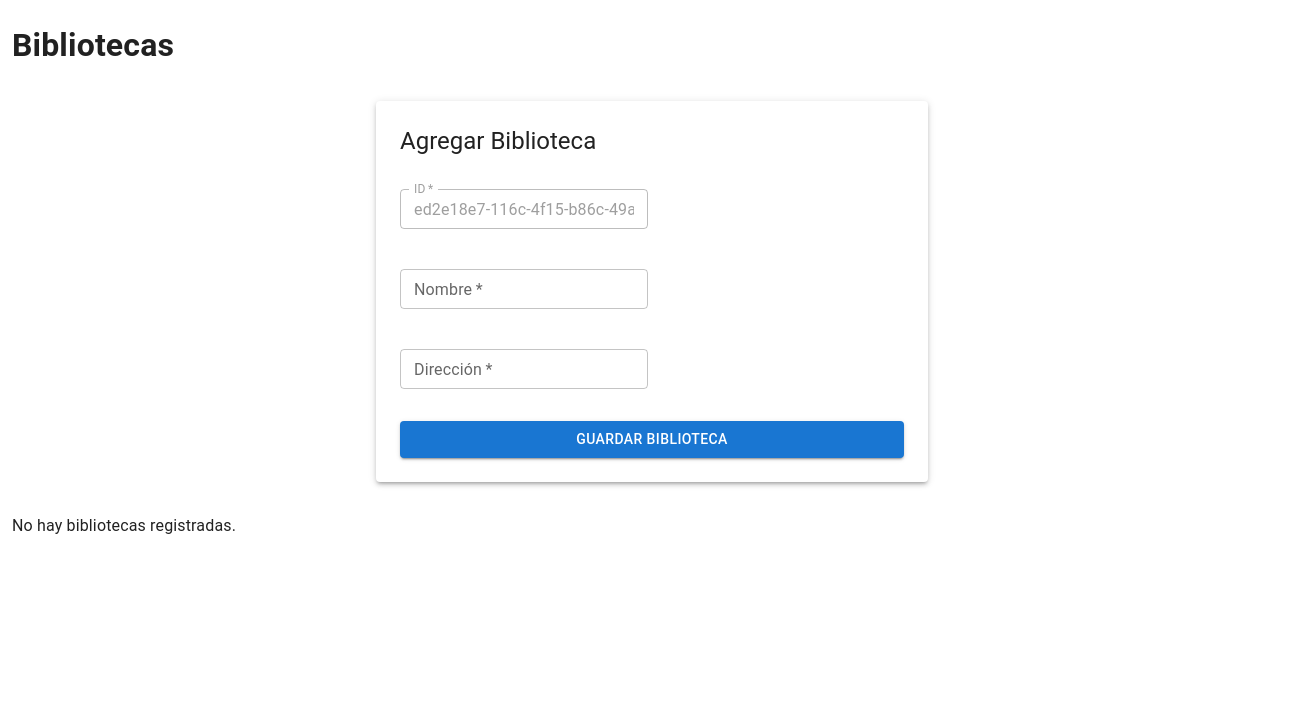
Test case: Bibliotecas - Test de Integración › test 5: debe editar una biblioteca existente
Type "Biblioteca Original" into the field labelled "Nombre *" at (524, 290), box [400, 270, 648, 310]
Type "Direccion Original" into the field labelled "Dirección *" at (524, 370), box [400, 350, 648, 390]
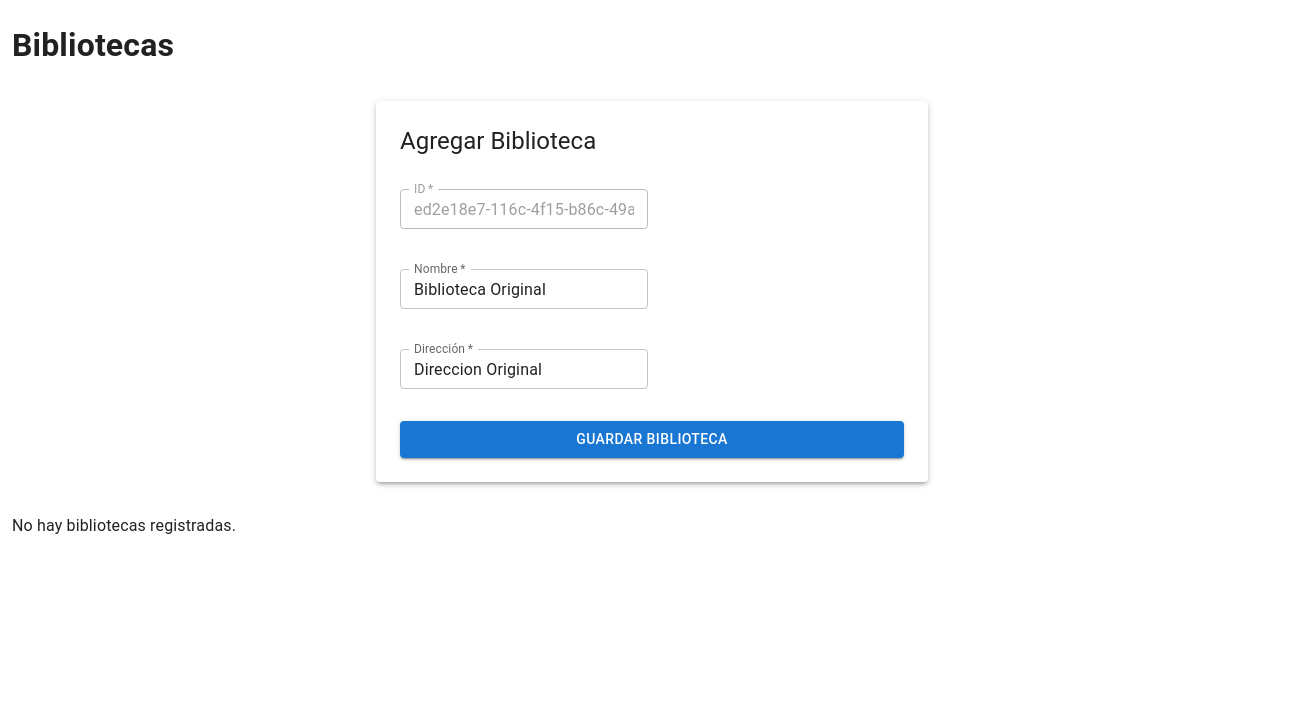
Click the button "Guardar Biblioteca" at (652, 440), box [400, 422, 904, 458]
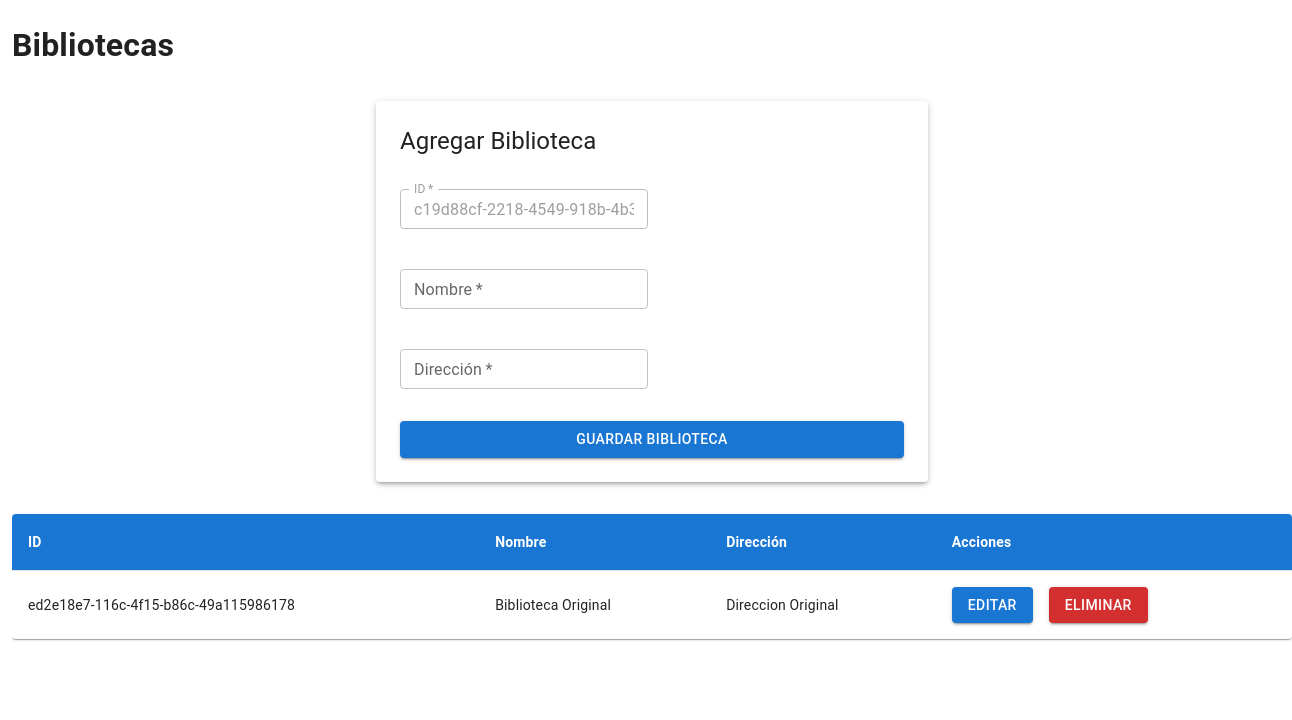
Check: the text "Biblioteca Original" is shown, box [479, 570, 710, 640]
Click the button "Editar" at (992, 605), box [952, 587, 1033, 624]
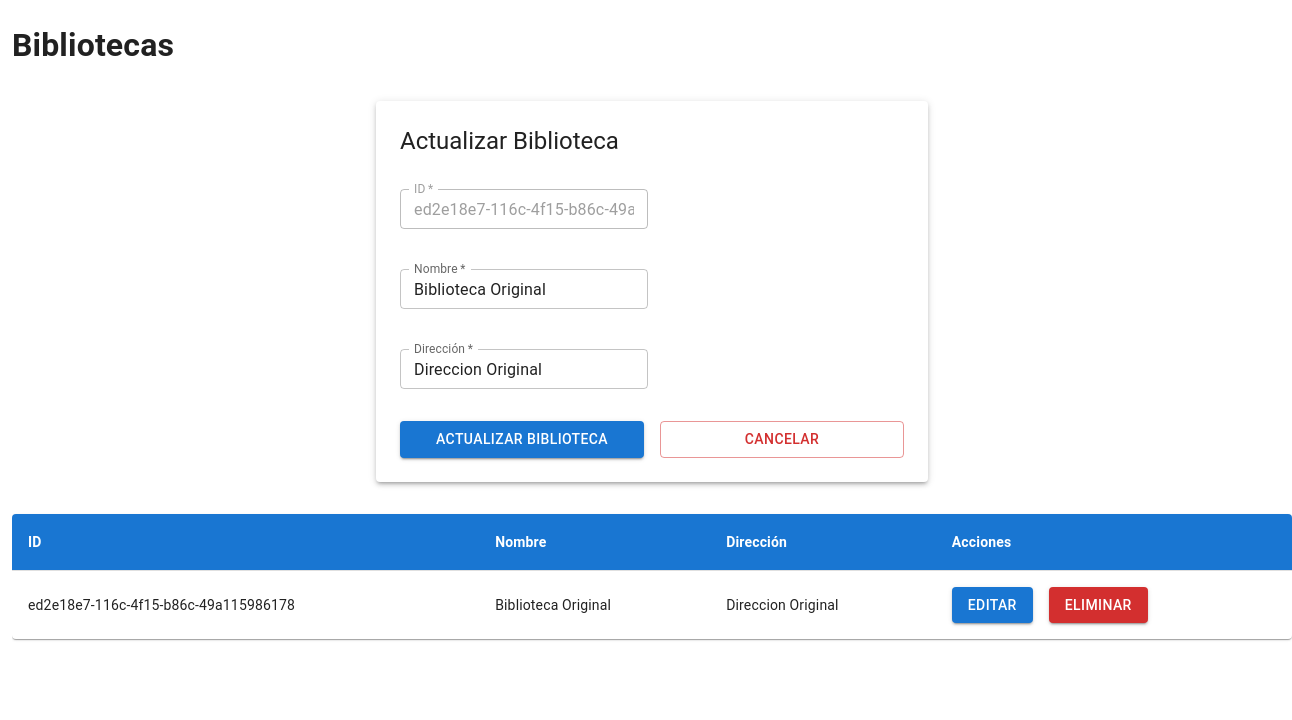
Check: the button "Actualizar Biblioteca" is shown, box [400, 422, 644, 458]
Replace the text in the field labelled "Nombre *" with "Biblioteca Actualizada" at (524, 290), box [400, 270, 648, 310]
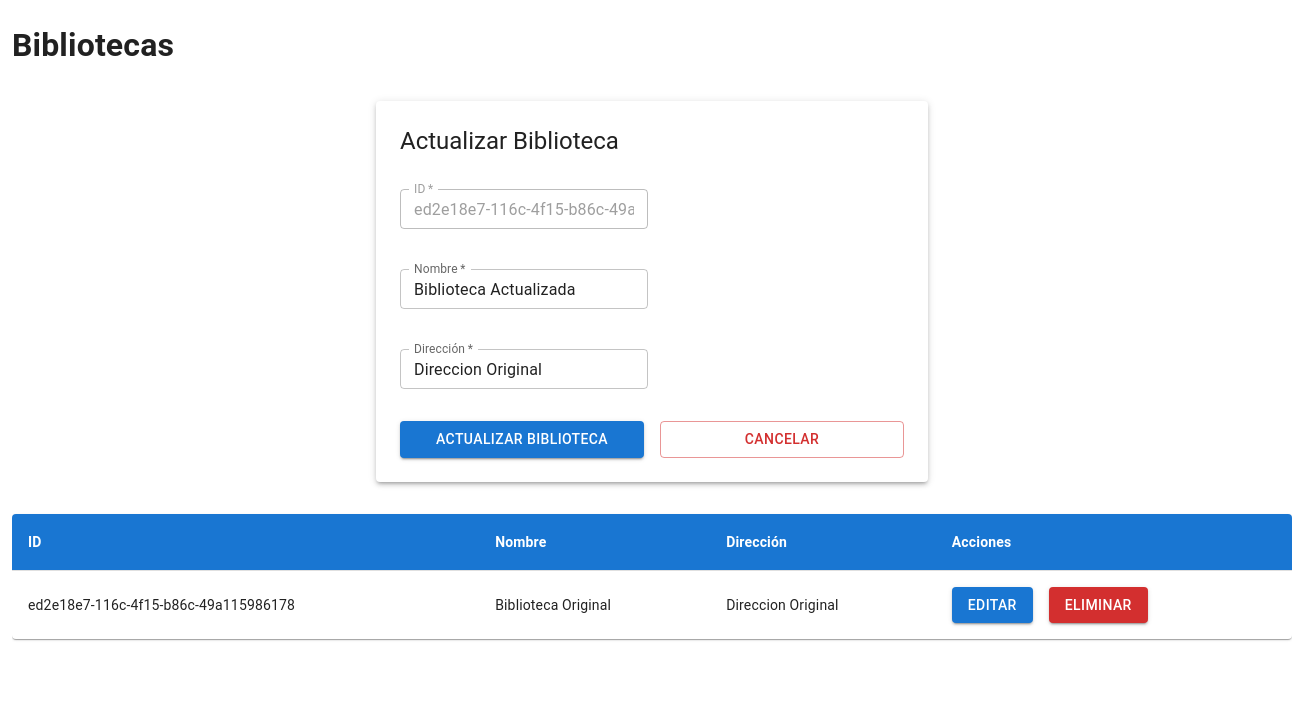
Replace the text in the field labelled "Dirección *" with "Direccion Nueva" at (524, 370), box [400, 350, 648, 390]
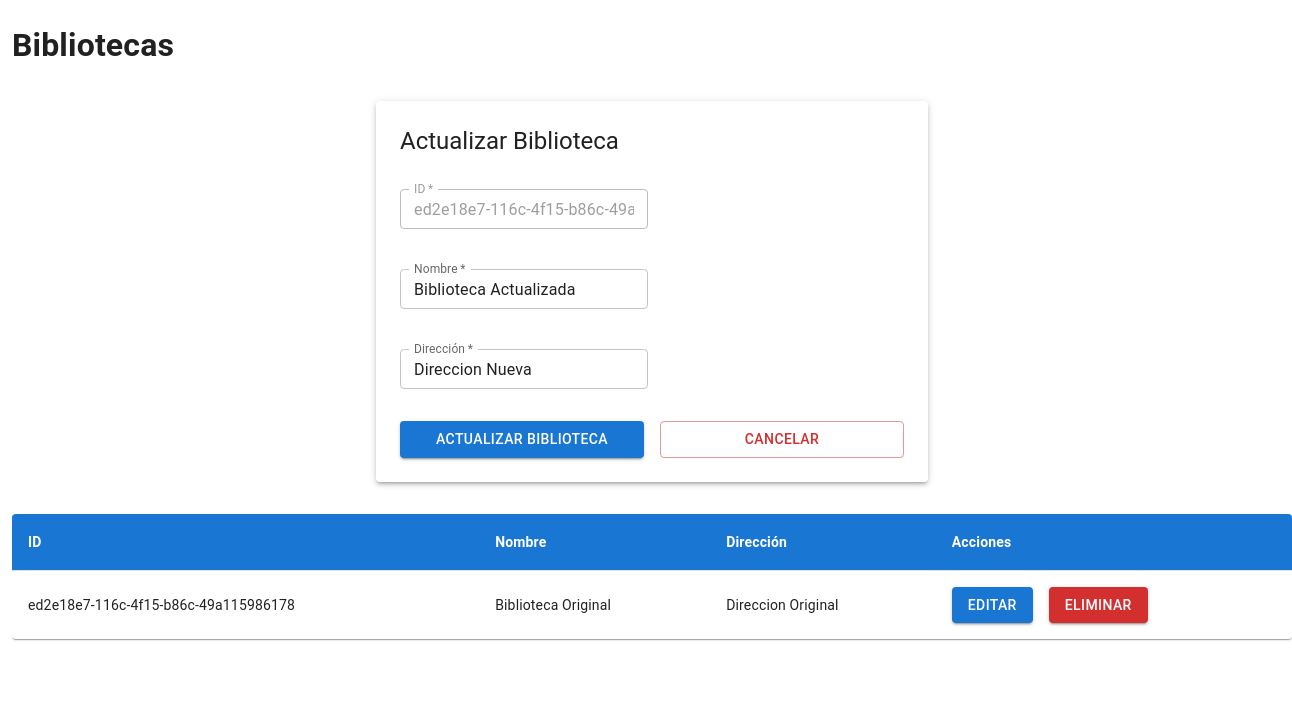
Click the button "Actualizar Biblioteca" at (522, 440), box [400, 422, 644, 458]
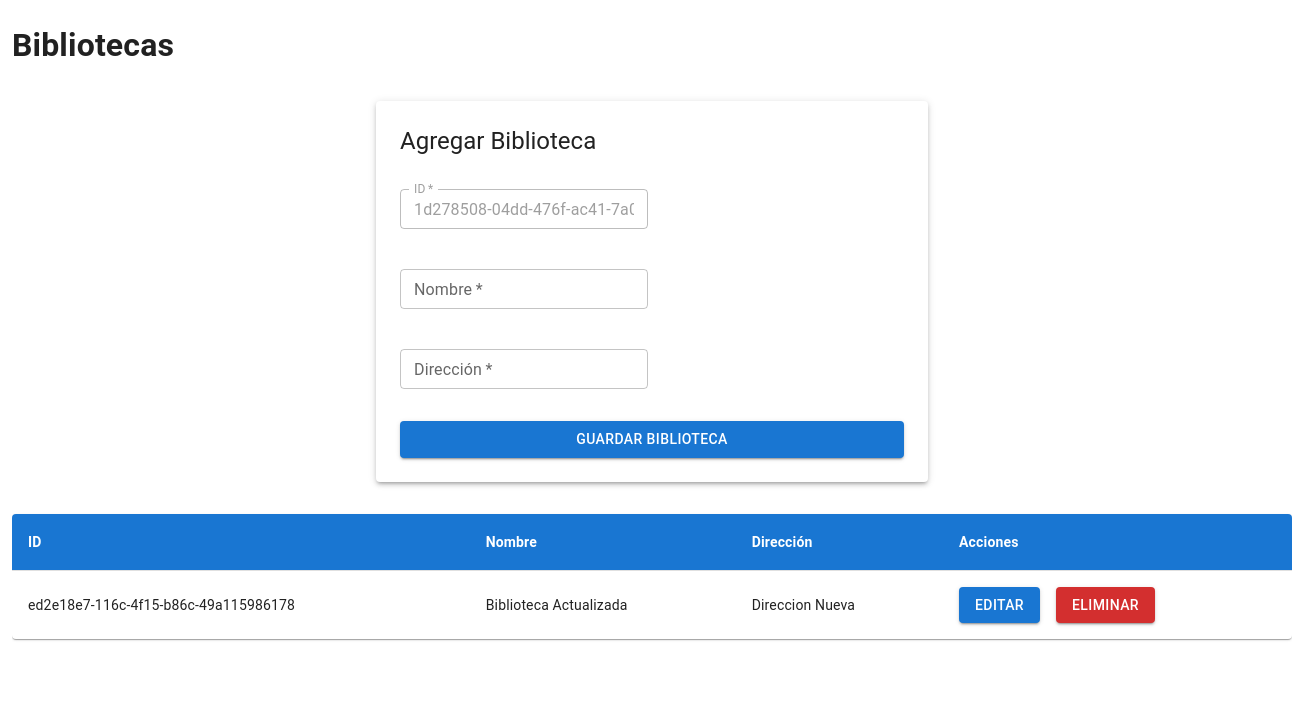
Check: the text "Biblioteca Actualizada" is shown, box [470, 570, 736, 640]
Check: the text "Direccion Nueva" is shown, box [736, 570, 943, 640]
Check: the text "Biblioteca Original" is gone
